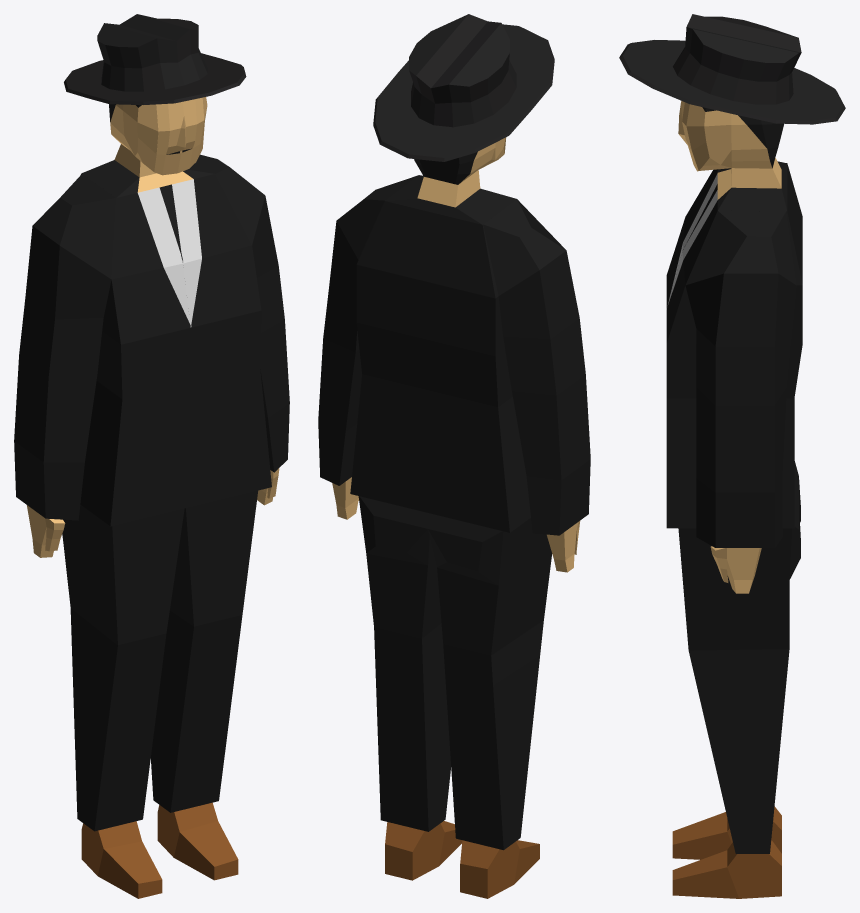
Rendered from 1stChar.fbx.
3 views of the same model, side by side, from view 1: azimuth 30°, elevation 25°; view 2: azimuth 150°, elevation 25°; view 3: azimuth 270°, elevation 25° (orthographic).
Visible parts, largest first — view 1: Cube, Hat; view 2: Cube, Hat; view 3: Cube, Hat.
Part boxes in pixels (x1=…): Cube: x1=14, y1=97, x2=289, y2=898; Hat: x1=64, y1=14, x2=246, y2=104; Cube: x1=318, y1=137, x2=590, y2=898; Hat: x1=373, y1=14, x2=554, y2=161; Cube: x1=666, y1=101, x2=802, y2=898; Hat: x1=619, y1=14, x2=845, y2=124.
Size of the model in its own units: 296 by 973 by 236.
